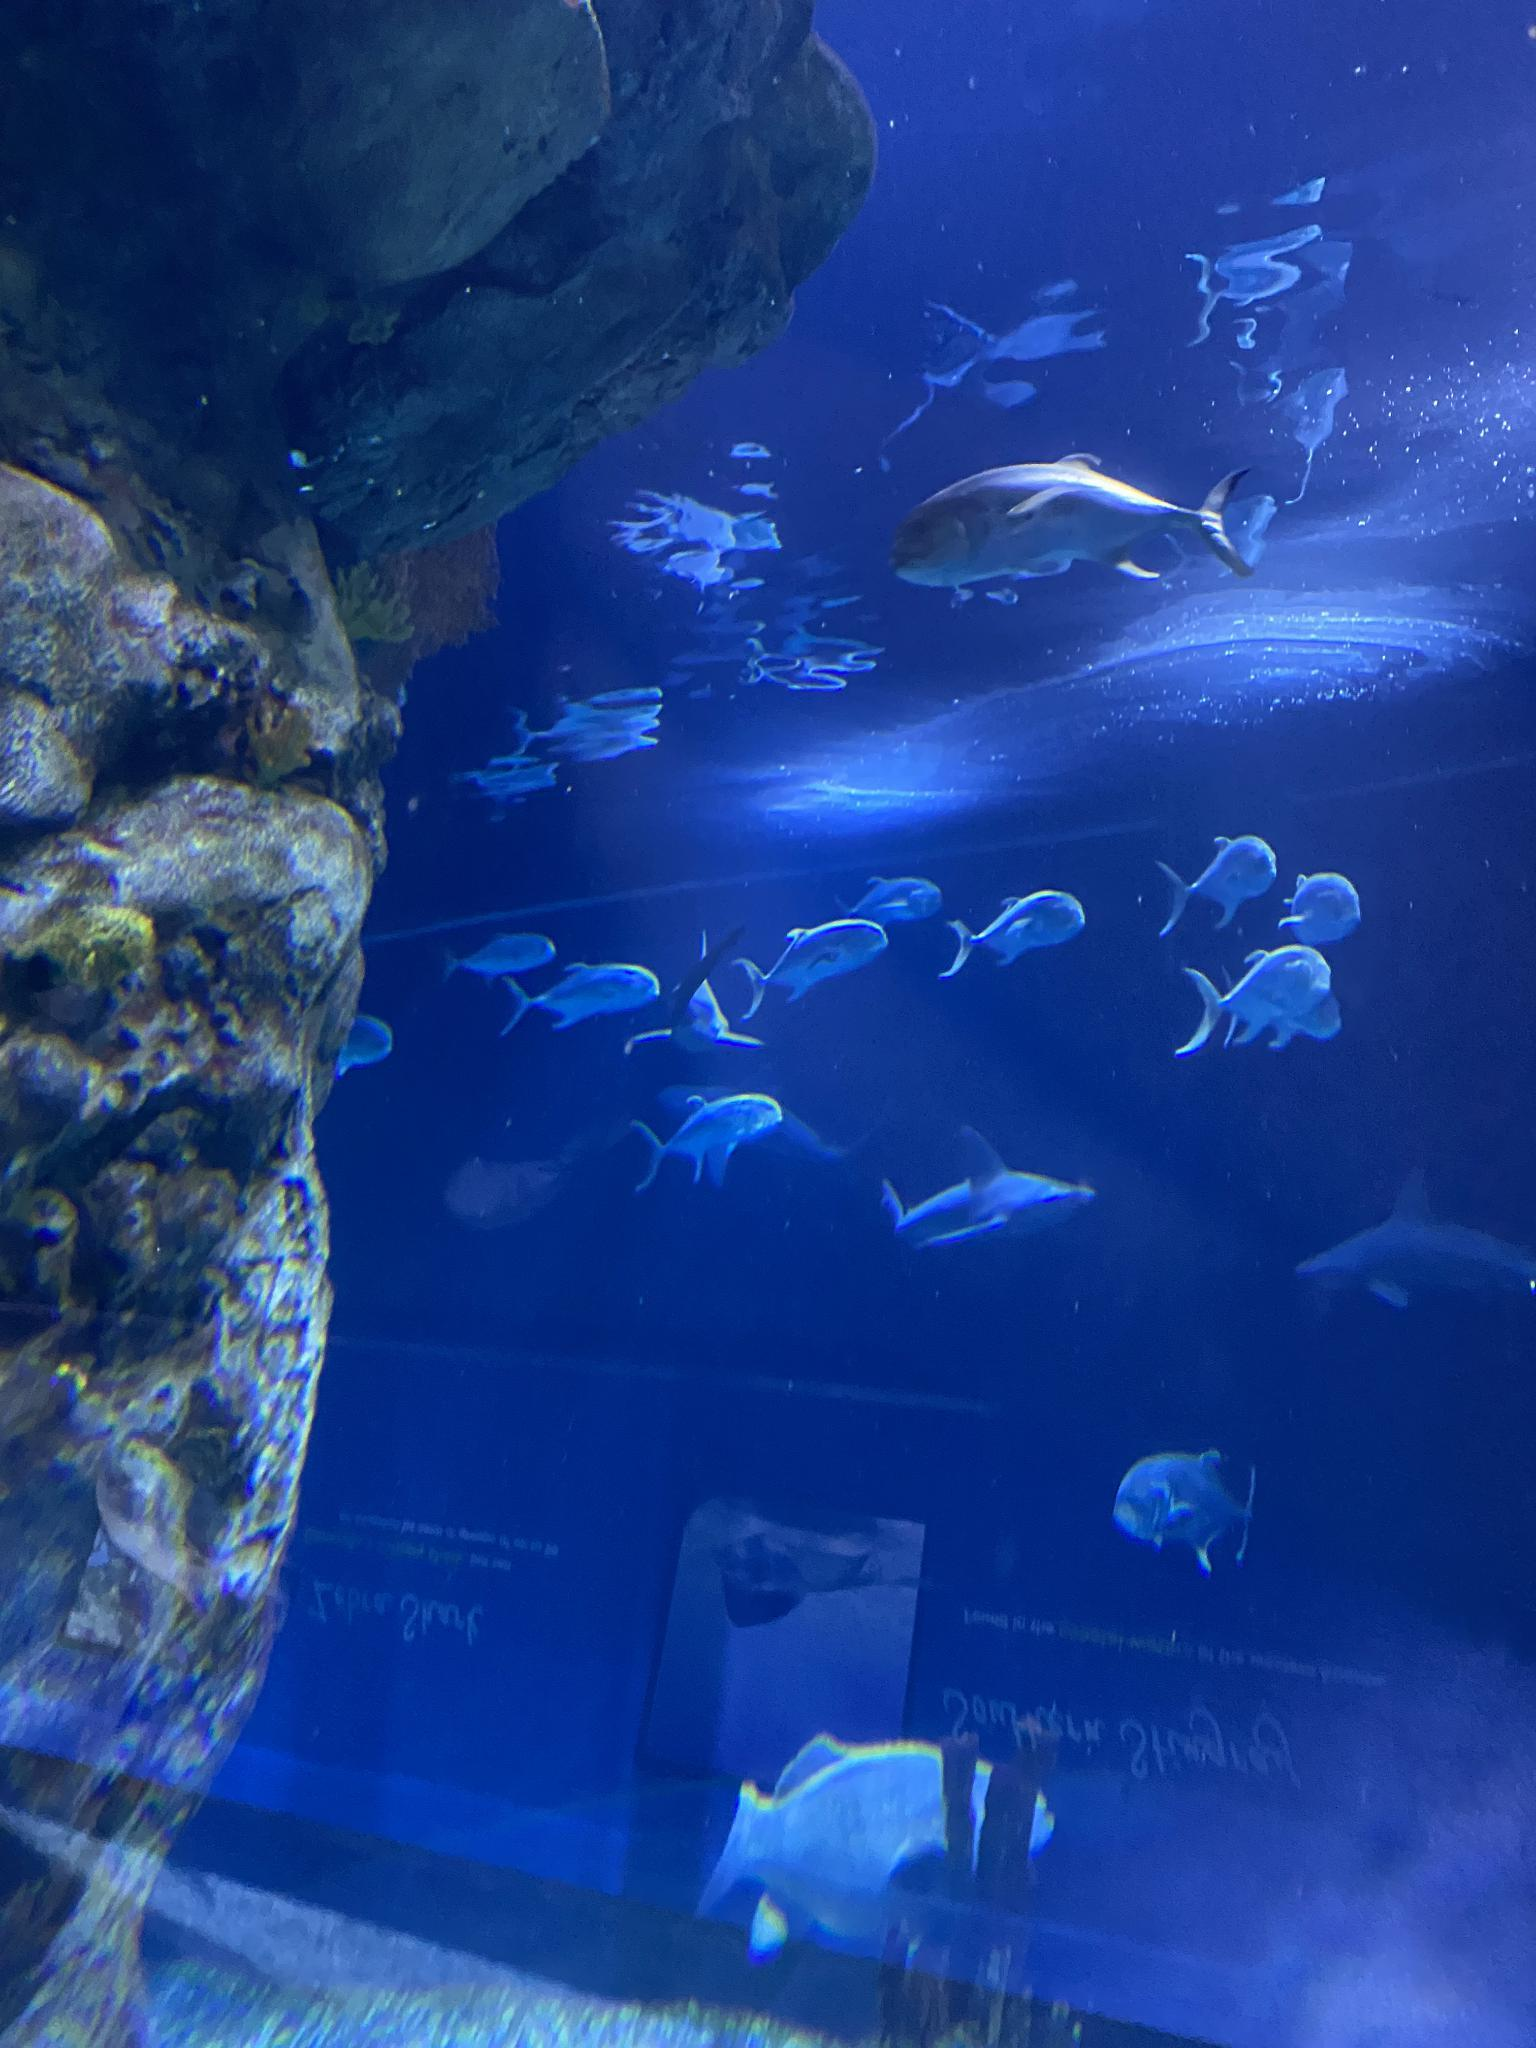fish: (697, 1734, 1055, 1956), (895, 445, 1249, 589), (1115, 1447, 1255, 1572), (1173, 948, 1339, 1053), (629, 1093, 781, 1192), (736, 922, 886, 1019), (942, 892, 1084, 976), (1158, 835, 1276, 935), (502, 963, 662, 1032), (440, 927, 557, 982), (1276, 874, 1359, 942), (316, 1016, 399, 1074), (839, 876, 941, 922)
shark: (1297, 1166, 1534, 1305), (879, 1126, 1094, 1250), (624, 921, 763, 1055), (658, 1082, 881, 1164)
